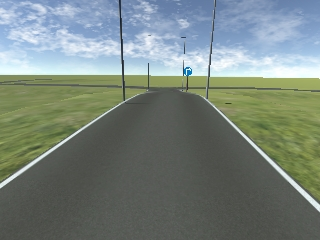right: (182, 67, 192, 76)
